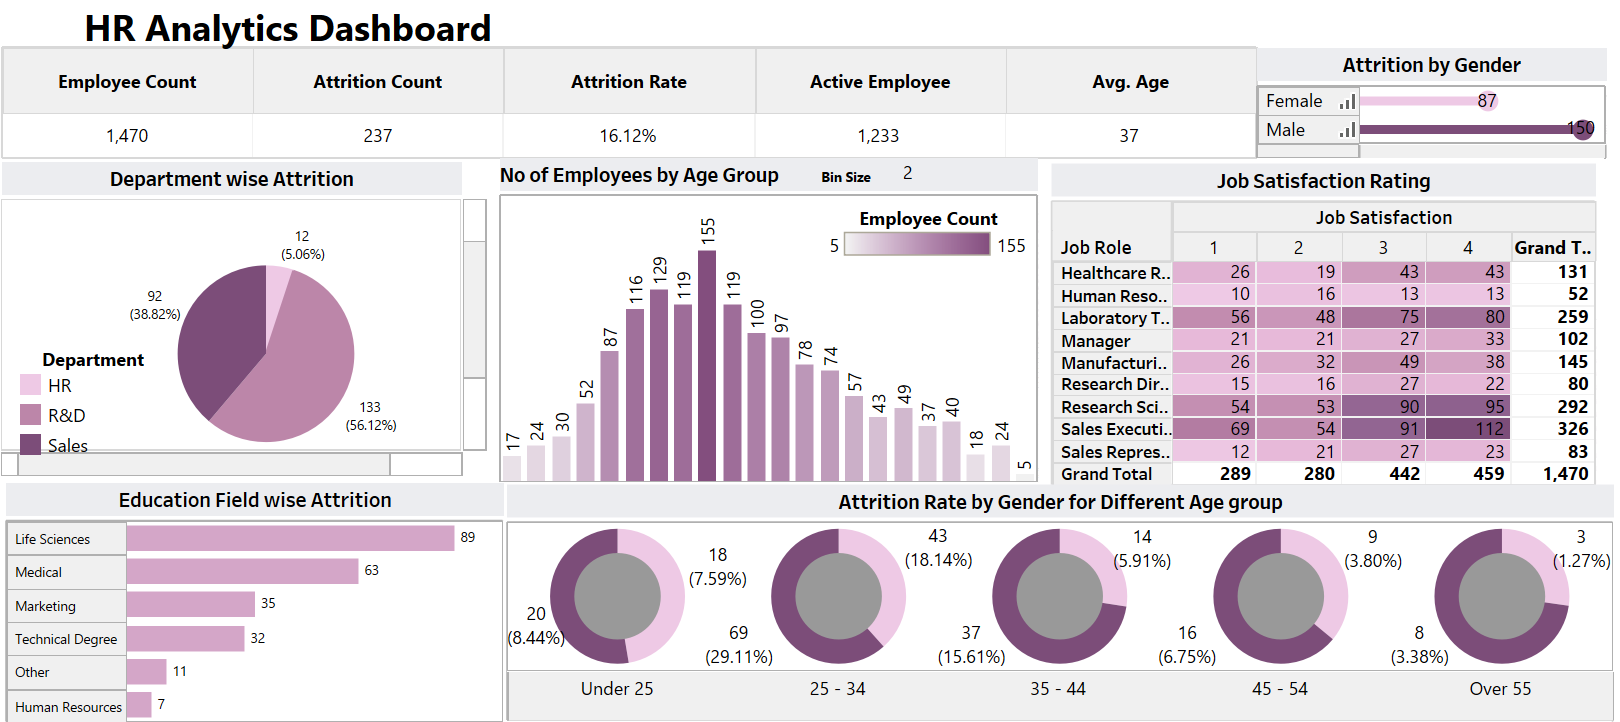

Layout of this report page (visuals, bound fields, positions):
{"tool":"tableau","page":{"name":"HR Analytics Dashboard","canvas":[1000,1000],"units":"permille","ordinal":0},"visuals":[{"type":"worksheet","title":"KPI","mark":"Automatic","box":[0.9,64.5,775,155.9]},{"type":"worksheet","title":"Attrition by Gender","mark":"Automatic","rows":["Gender"],"cols":["Calculation_1402871338040078336","Calculation_1402871338040078336"],"box":[775.9,66.5,215.7,153.8]},{"type":"worksheet","title":"No of Employees by Age Group ","mark":"Automatic","rows":["Employee Count"],"cols":["Age (bin)"],"box":[308.3,218.3,332.4,451.1]},{"type":"parameter","param":"[Parameters].[Parameter 2]","box":[488.9,220.4,160.2,47.8]},{"type":"worksheet","title":"Department wise Attrition","mark":"Pie","box":[0.9,224.5,300,436.6]},{"type":"worksheet","title":"Job Satisfaction Rating","mark":"Square","rows":["Job Role"],"cols":["Job Satisfaction"],"box":[649.1,226.6,336.1,447]},{"type":"legend","title":"No of Employees by Age Group ","param":"[federated.0bmka600jnot0f14av7i21bwibaf].[sum:Employee Count:qk]","box":[508.3,276.5,129.6,85.2]},{"type":"legend","title":"Department wise Attrition","param":"[federated.0bmka600jnot0f14av7i21bwibaf].[none:Department:nk]","box":[9.3,476.1,94.4,174.6]},{"type":"worksheet","title":"Education Field wise Attrition","mark":"Automatic","rows":["Education Field"],"cols":["Calculation_1402871338040078336"],"box":[3.7,669.4,307.4,332.6]},{"type":"worksheet","title":"Attrition Rate by Gender for Different Age group","mark":"Pie","rows":["Calculation_1402871338706903050","Calculation_1402871338706903050"],"cols":["CF_age band"],"box":[313,671.5,683.3,328.5]}]}

Visuals, with their boxes on the dashboard's canvas, which has no fixed pixel size, in thousandths of its width and height (x1, y1, x2, y2). These are canvas units, not pixel positions in the 1620x722 screenshot, which may show the page scaled, cropped or inside an application window:
"KPI" worksheet: bbox=(1, 64, 776, 220)
"Attrition by Gender" worksheet: bbox=(776, 66, 992, 220)
"No of Employees by Age Group " worksheet: bbox=(308, 218, 641, 669)
parameter: bbox=(489, 220, 649, 268)
"Department wise Attrition" worksheet (Pie marks): bbox=(1, 224, 301, 661)
"Job Satisfaction Rating" worksheet (Square marks): bbox=(649, 227, 985, 674)
"No of Employees by Age Group " legend: bbox=(508, 276, 638, 362)
"Department wise Attrition" legend: bbox=(9, 476, 104, 651)
"Education Field wise Attrition" worksheet: bbox=(4, 669, 311, 1002)
"Attrition Rate by Gender for Different Age group" worksheet (Pie marks): bbox=(313, 672, 996, 1000)
